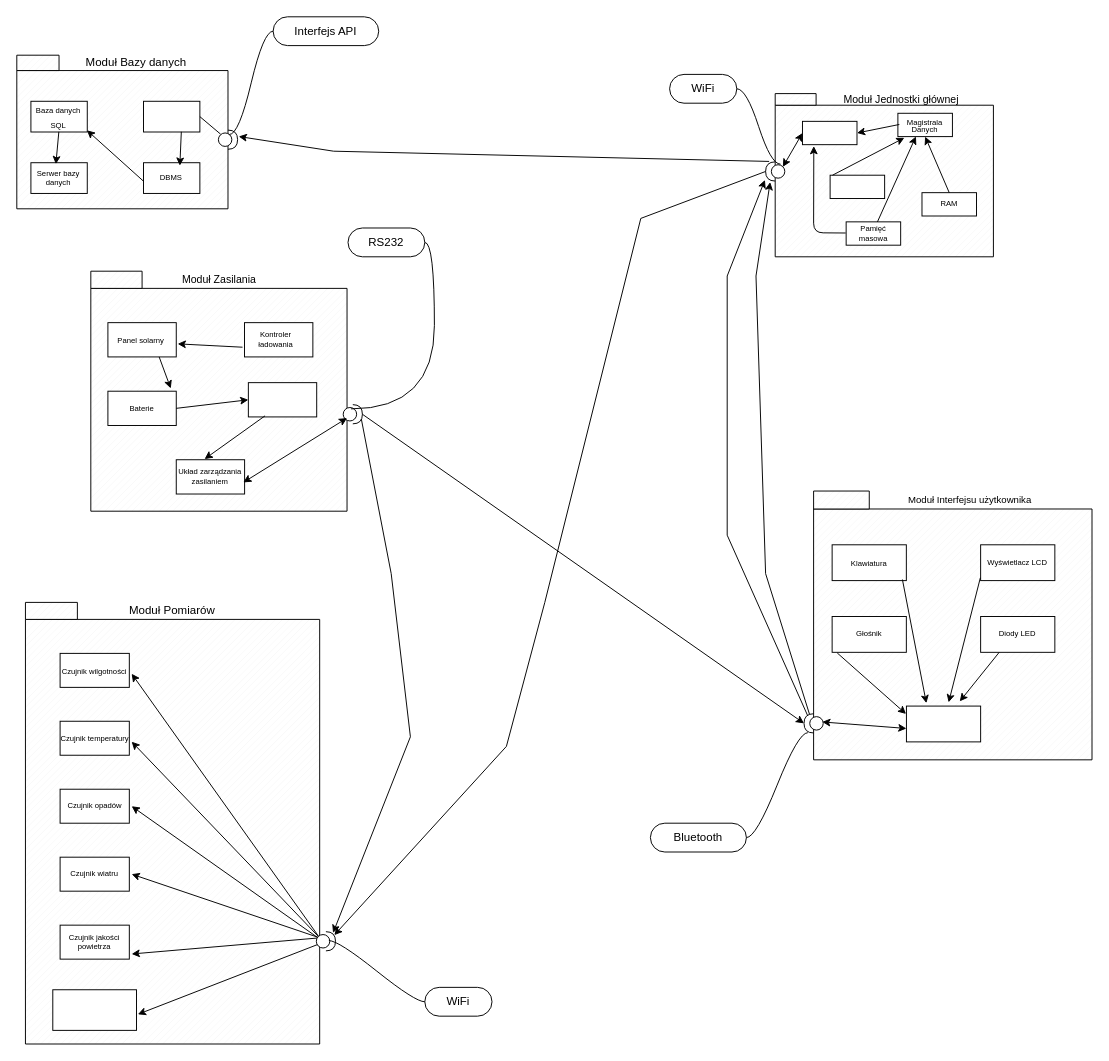
The diagram is 1109 pixels wide and 1061 high, and some of its shapes have lost their labels. The centre of each missing label's shape, as x and y in pixels:
"API" goes at (x=171, y=116).
"CPU" goes at (x=829, y=132).
"Czujnik promieniowania słonecznego" goes at (x=94, y=1009).
"Przetwornik napięcia" goes at (x=282, y=399).
"ROM" goes at (x=857, y=186).
"Sterownik interfejsu użytkownika" goes at (x=943, y=723).
